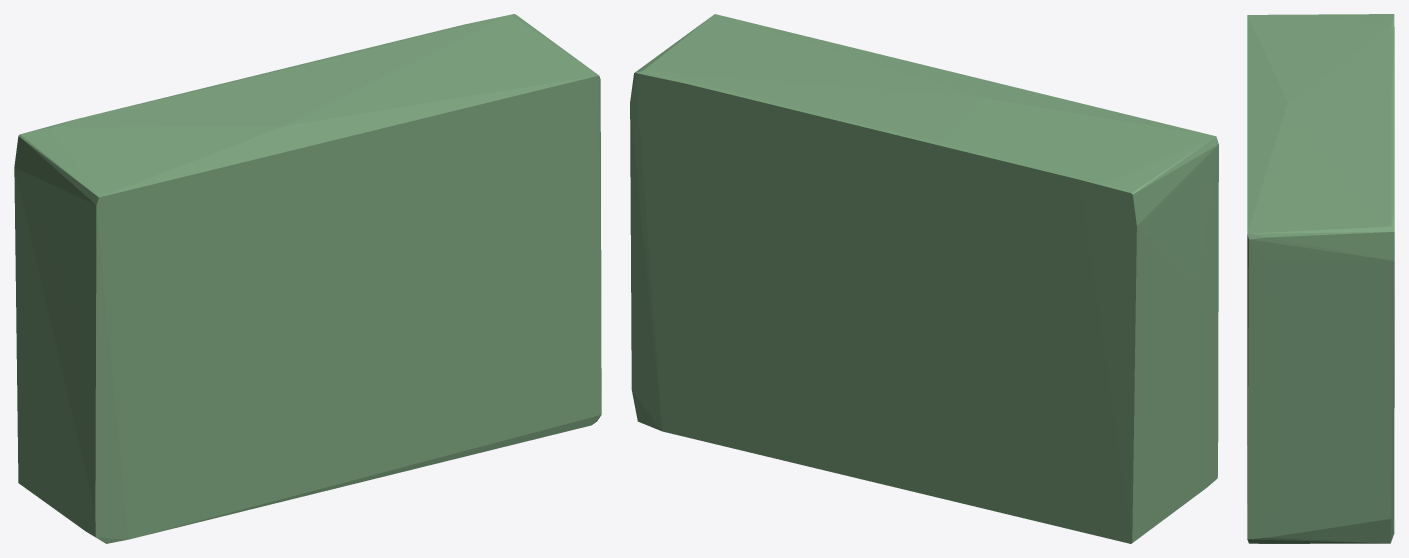
File: crate_yellow_a07.glb
The picture shows the model from 3 angles, left to right: view 1: azimuth 30°, elevation 25°; view 2: azimuth 150°, elevation 25°; view 3: azimuth 270°, elevation 25°; orthographic projection. The views are drawn at different scales.
Parts seen in each view (by area): view 1: geometry_0; view 2: geometry_0; view 3: geometry_0.
Boxes of the visible parts, x1,y1,x2,y2 form: geometry_0: [14, 14, 601, 543]; geometry_0: [630, 14, 1218, 543]; geometry_0: [1247, 14, 1394, 543].
Bounding box in the file's own units: 0.48 × 0.3206 × 0.1352.
